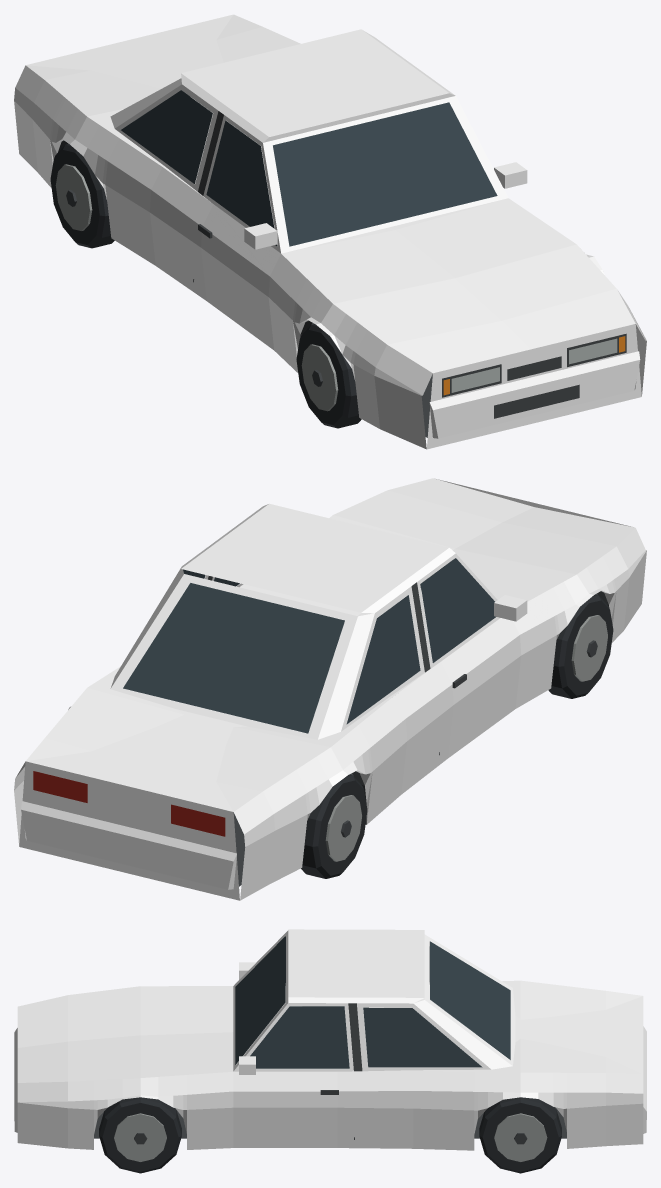
Rendered from mizuchi_kagero_s.glb.
3 renders of one model, top to bottom at view 1: azimuth 30°, elevation 25°; view 2: azimuth 150°, elevation 25°; view 3: azimuth 270°, elevation 25°, orthographic. The views are drawn at different scales.
Parts seen in each view (by area): view 1: mizuchi_kagero_s; view 2: mizuchi_kagero_s; view 3: mizuchi_kagero_s.
Part boxes in pixels (left/top/right/bottom): mizuchi_kagero_s: left=14, top=14, right=646, bottom=449; mizuchi_kagero_s: left=14, top=478, right=646, bottom=900; mizuchi_kagero_s: left=14, top=929, right=646, bottom=1173.
Size of the model in its own units: 1.75 by 1.25 by 4.46.
Materials: 8 (1 with a texture image).
